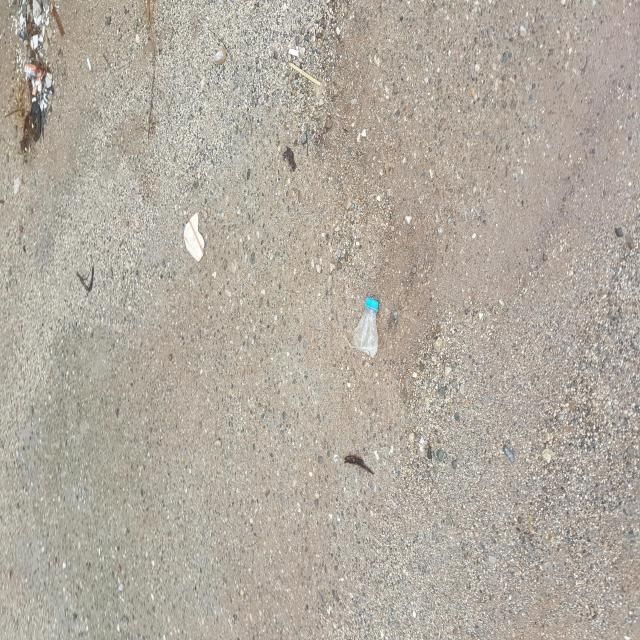bottle: (350, 283, 386, 365)
